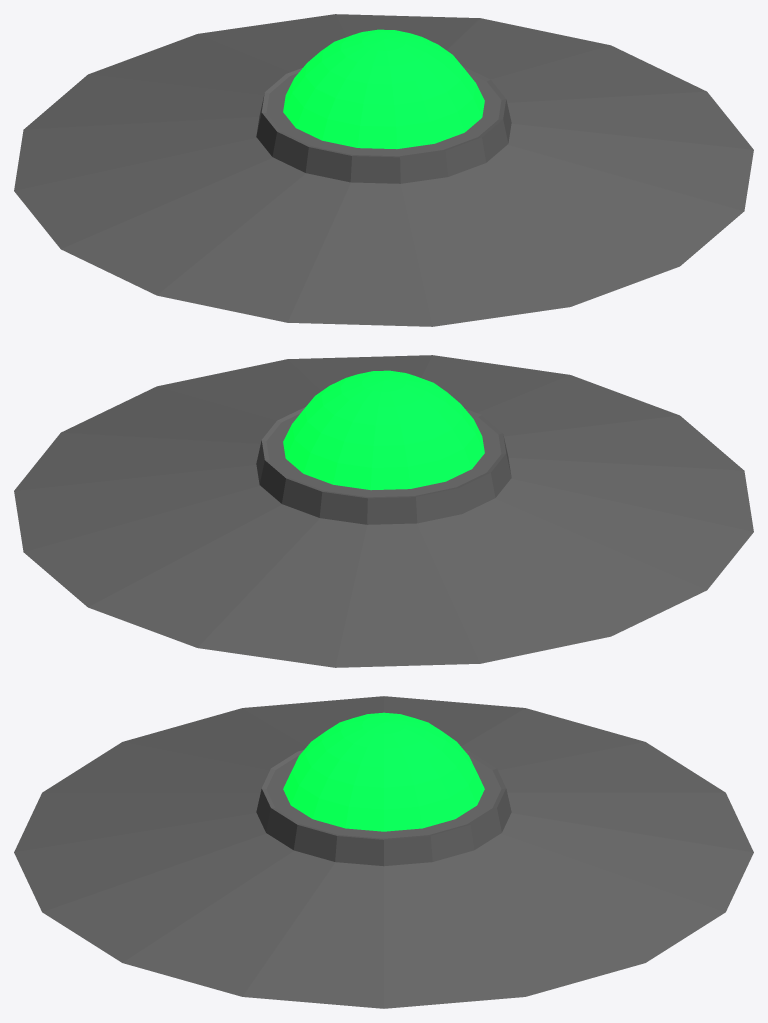
Rendered from UFO.fbx.
The picture shows the model from 3 angles, top to bottom: view 1: azimuth 30°, elevation 25°; view 2: azimuth 150°, elevation 25°; view 3: azimuth 270°, elevation 25°; orthographic projection.
Parts seen in each view (by area): view 1: Sphere.001; view 2: Sphere.001; view 3: Sphere.001.
Part boxes in pixels (<box>): Sphere.001: <box>14,14,753,326</box>; Sphere.001: <box>14,355,753,667</box>; Sphere.001: <box>14,696,753,1008</box>.
Bounding box in the file's own units: 599 × 175 × 599.
